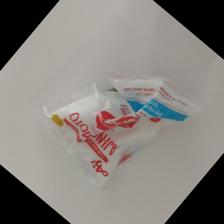Ajinomoto: (34, 66, 199, 190)
